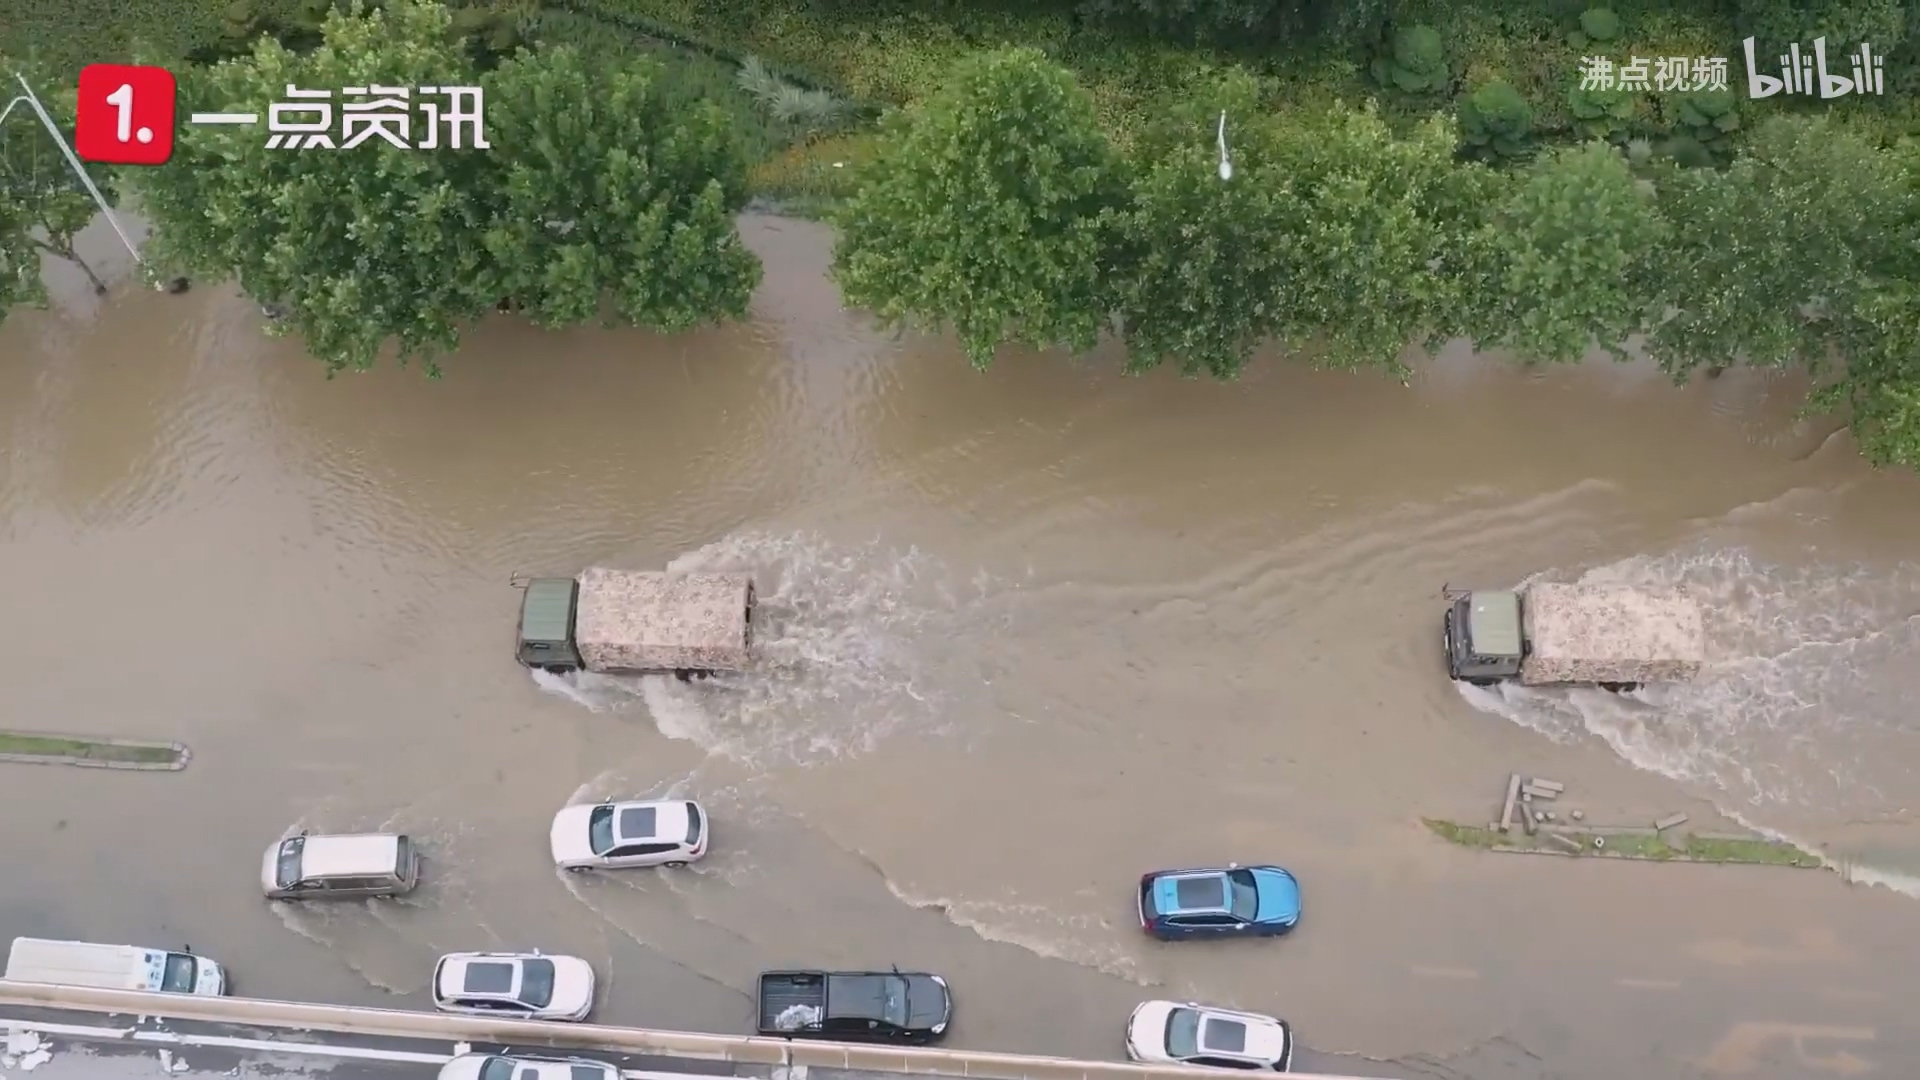puddle: (15, 282, 1898, 1080)
